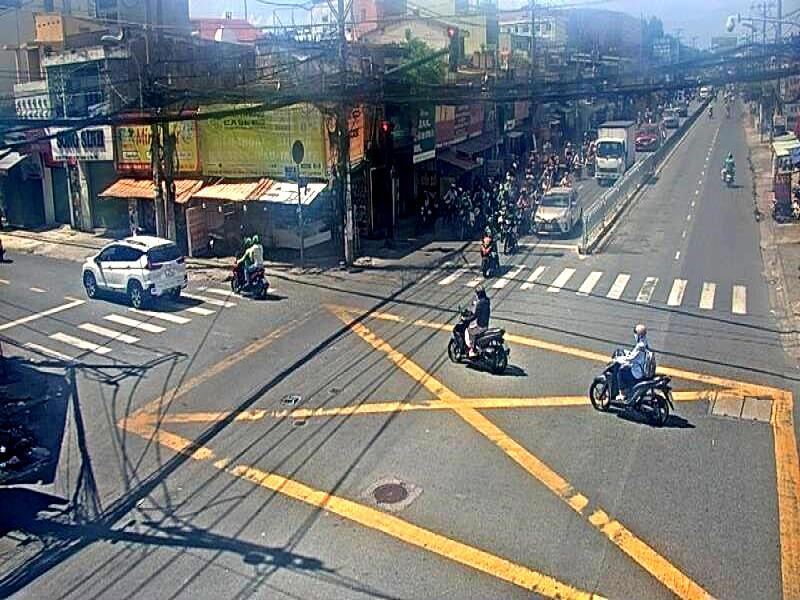car: (82, 232, 187, 308), (537, 184, 582, 241)
motorcycle: (591, 350, 675, 425), (446, 309, 513, 372), (228, 262, 274, 302)
truck: (591, 118, 639, 186)
